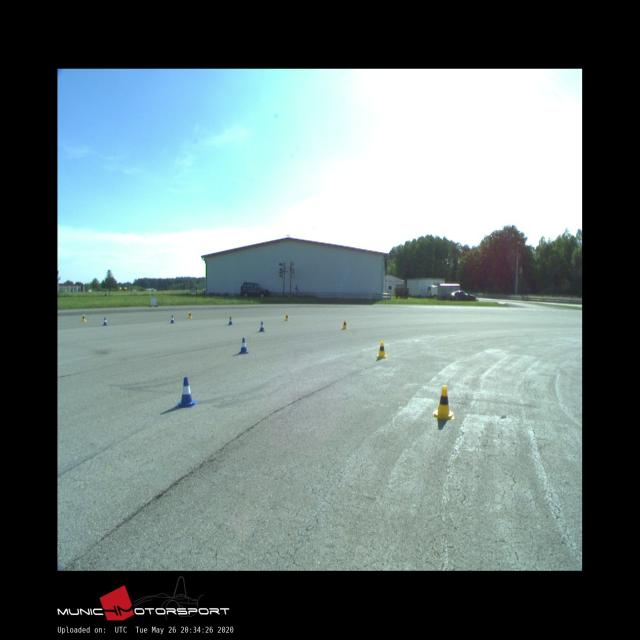blue_cone: (177, 376, 197, 406), (238, 338, 248, 354), (258, 322, 266, 331), (102, 317, 108, 325), (228, 316, 233, 325), (170, 315, 175, 323)
yellow_cone: (433, 385, 455, 419), (377, 341, 387, 358), (341, 319, 348, 330), (284, 313, 290, 321), (82, 314, 86, 322), (188, 311, 192, 318)
